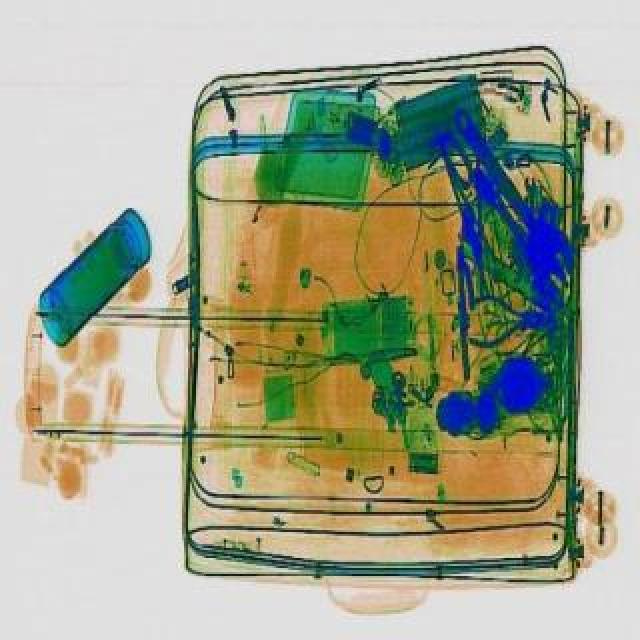scissors: (436, 96, 588, 288)
wrench: (468, 292, 552, 346)
